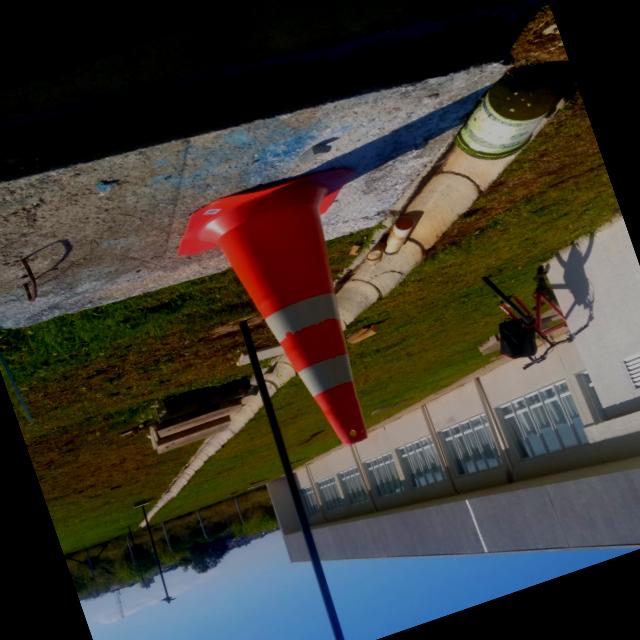cone: (164, 151, 450, 479)
